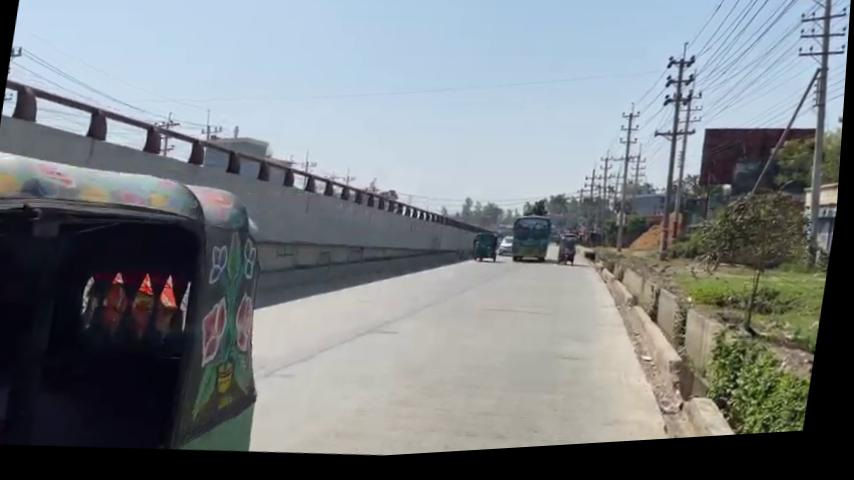Fallen-tree: (0, 51, 525, 310)
Garbage: (758, 0, 852, 271), (640, 47, 703, 268)
Garbage-bin: (643, 340, 821, 449)
Railroad-crossing: (677, 189, 822, 348)
Rickshaw: (0, 138, 298, 466), (512, 218, 557, 270)
